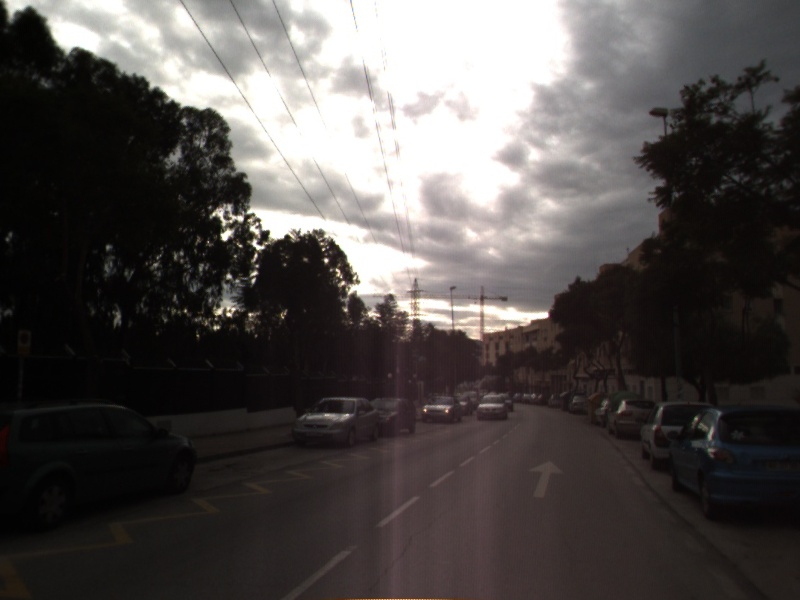STRAIGHT: (526, 457, 568, 499)
